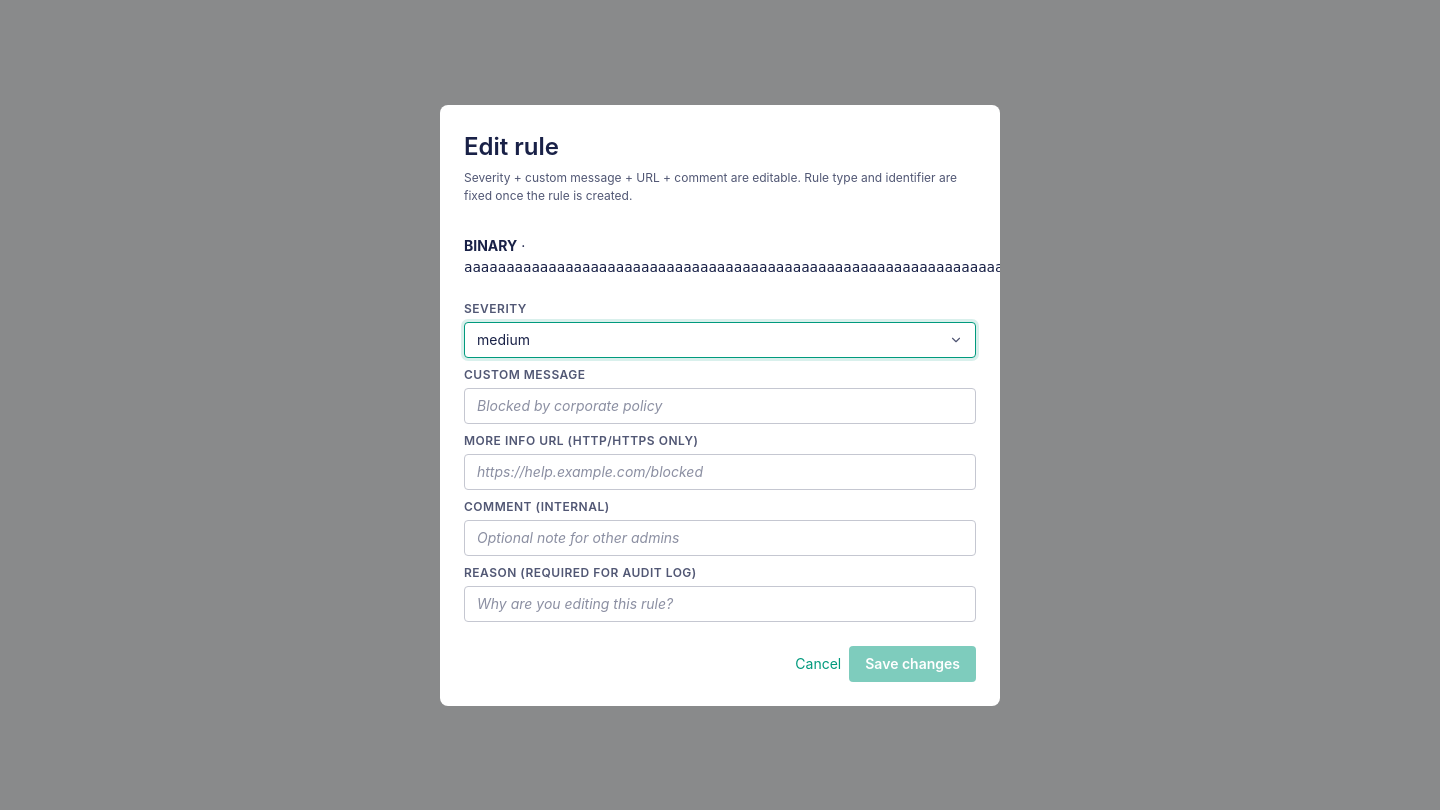
Test: EditRuleModal › disables Save until a field actually changes AND a reason is typed
Expected: the button "Save changes" is disabled, [849,646,976,682]
Reason alone, no field change → still disabled.
Type "reason but no field change" into the field labelled "Reason (required for audit log)" at (720, 604), box [464,586,976,622]
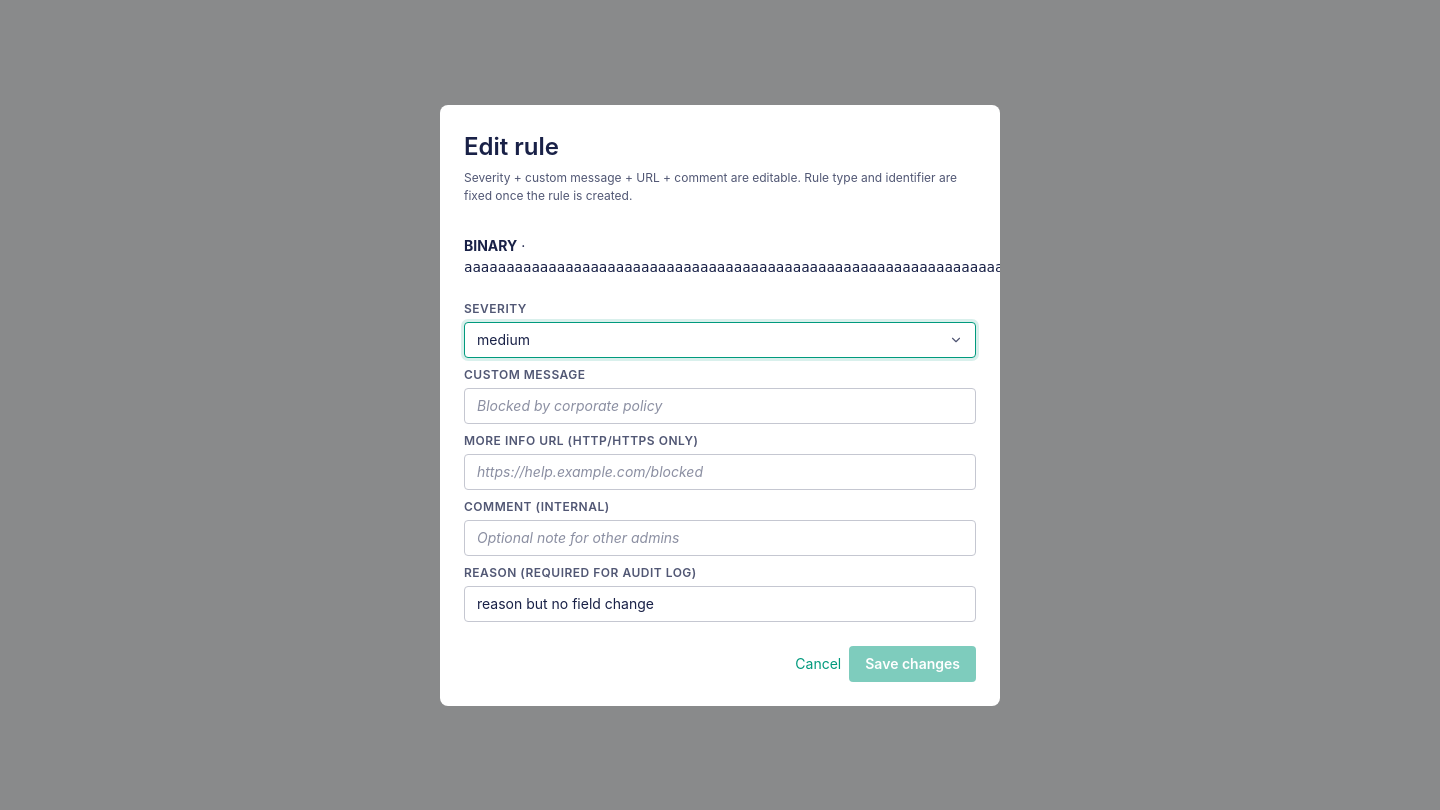
Expected: the button "Save changes" is disabled, [849,646,976,682]
Now flip severity → enables.
Select "critical" in the dropdown labelled "Severity" at (720, 340), box [464,322,976,358]
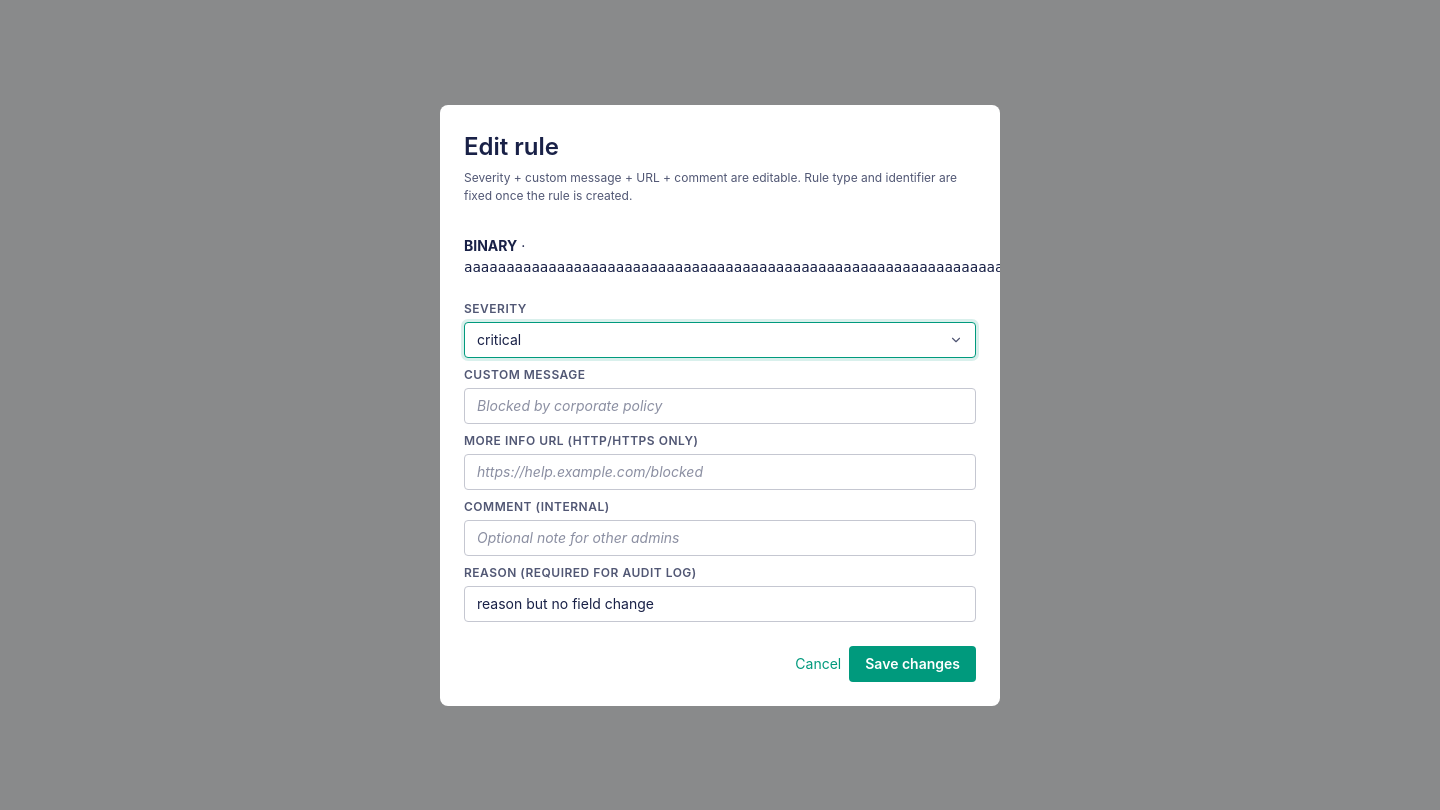
Result: the button "Save changes" is enabled at [849,646,976,682]
